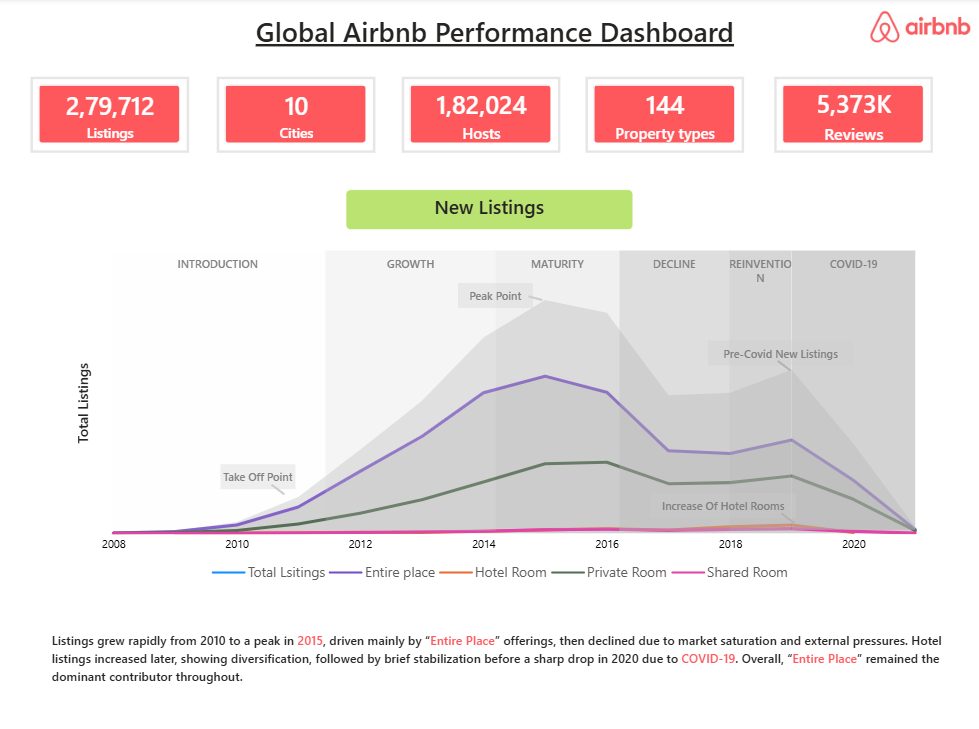

The page's visual inventory and layout, read from the dashboard file:
{"tool":"powerbi","page":{"name":"Overview","canvas":[960,720],"ordinal":0},"visuals":[{"type":"textbox","box":[212.8,9.8,546.6,52.6],"z":0},{"type":"image","box":[853.5,9.8,97.8,36.7],"z":1000},{"type":"cardVisual","fields":{"Data":["CountNonNull(Listings.listing_id)"]},"box":[31.8,77,155.3,74.6],"z":2000},{"type":"cardVisual","fields":{"Data":["Count(Listings.city)"]},"box":[213.7,77,155.3,74.6],"z":3000},{"type":"cardVisual","fields":{"Data":["Count(Listings.host_id)"]},"box":[395.6,77,155.3,74.6],"z":4000},{"type":"cardVisual","fields":{"Data":["CountNonNull(Reviews.listing_id)"]},"box":[759.4,77,155.3,74.6],"z":5000},{"type":"cardVisual","fields":{"Data":["Count(Listings.property_type)"]},"box":[574.7,77,155.3,74.6],"z":6000},{"type":"lineChart","fields":{"Y":["CountNonNull(Listings.listing_id)","Listings.Entire place","Listings.Hotel Room","Listings.Private Room","Listings.Shared Room"],"Category":["Listings.host_since.Variation.Date Hierarchy.Year"]},"box":[73.3,255.6,841.1,325.6],"z":7000},{"type":"textbox","box":[339.4,187.1,281.3,40.4],"z":8000},{"type":"shape","box":[110,246.7,210,274.4],"z":9000},{"type":"shape","box":[320,246.7,166.7,274.4],"z":10000},{"type":"shape","box":[486.7,246.7,121.1,272.2],"z":11000},{"type":"shape","box":[715.6,246.7,61.1,274.4],"z":12000},{"type":"shape","box":[607.8,246.7,107.8,274.4],"z":13000},{"type":"shape","box":[776.7,246.7,121.1,273.3],"z":14000},{"type":"shape","box":[217.8,456.7,73.3,24.4],"z":15000},{"type":"shape","box":[266.7,471.1,14.4,20],"z":16000},{"type":"shape","box":[450,278.9,73.3,24.4],"z":17000},{"type":"shape","box":[694.4,335.6,142.2,24.4],"z":18000},{"type":"shape","box":[518.9,283.3,14.4,20],"z":19000},{"type":"shape","box":[762.2,350,14.4,20],"z":20000},{"type":"shape","box":[637.8,484.4,142.2,24.4],"z":21000},{"type":"shape","box":[765.6,498.9,14.4,20],"z":22000},{"type":"textbox","box":[47.8,613.3,903.3,65.6],"z":23000}]}

Visuals, with their boxes in screenshot pixels (x1, y1, x2, y2), scaled from the page's 960x720 canvas onto the 979x729 screenshot:
textbox: 217/10/774/63
image: 870/10/970/47
cardVisual - CountNonNull(Listings.listing_id): 32/78/191/153
cardVisual - Count(Listings.city): 218/78/376/153
cardVisual - Count(Listings.host_id): 403/78/562/153
cardVisual - CountNonNull(Reviews.listing_id): 774/78/933/153
cardVisual - Count(Listings.property_type): 586/78/744/153
lineChart - CountNonNull(Listings.listing_id) x Listings.Entire place: 75/259/932/588
textbox: 346/189/633/230
shape: 112/250/326/528
shape: 326/250/496/528
shape: 496/250/620/525
shape: 730/250/792/528
shape: 620/250/730/528
shape: 792/250/916/526
shape: 222/462/297/487
shape: 272/477/287/497
shape: 459/282/534/307
shape: 708/340/853/364
shape: 529/287/544/307
shape: 777/354/792/375
shape: 650/490/795/515
shape: 781/505/795/525
textbox: 49/621/970/687
